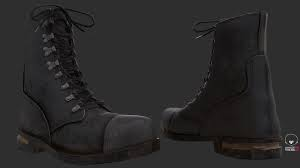shoe: (16, 1, 164, 161), (159, 5, 288, 161)
